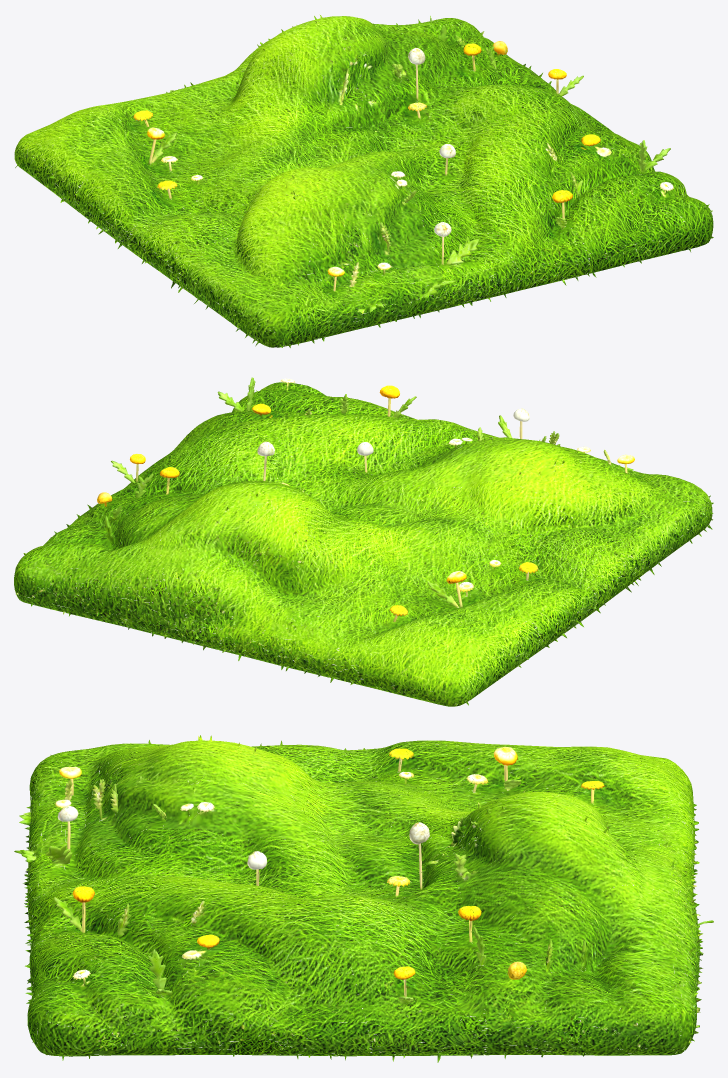
Rendered from display-grass.glb.
The picture shows the model from 3 angles, top to bottom: view 1: azimuth 30°, elevation 25°; view 2: azimuth 150°, elevation 25°; view 3: azimuth 270°, elevation 25°; orthographic projection. The views are drawn at different scales.
Parts seen in each view (by area): view 1: tripo_node_40261fb3-1a7b-4d79-9c48-f89169eb5242; view 2: tripo_node_40261fb3-1a7b-4d79-9c48-f89169eb5242; view 3: tripo_node_40261fb3-1a7b-4d79-9c48-f89169eb5242.
Part boxes in pixels (box(x1,y1,x2,y2)): tripo_node_40261fb3-1a7b-4d79-9c48-f89169eb5242: box(14, 15, 713, 347); tripo_node_40261fb3-1a7b-4d79-9c48-f89169eb5242: box(14, 377, 713, 706); tripo_node_40261fb3-1a7b-4d79-9c48-f89169eb5242: box(14, 735, 713, 1062).
Bounding box in the file's own units: 0.9598 × 0.2349 × 0.9807.
1 material, 1 textured.
